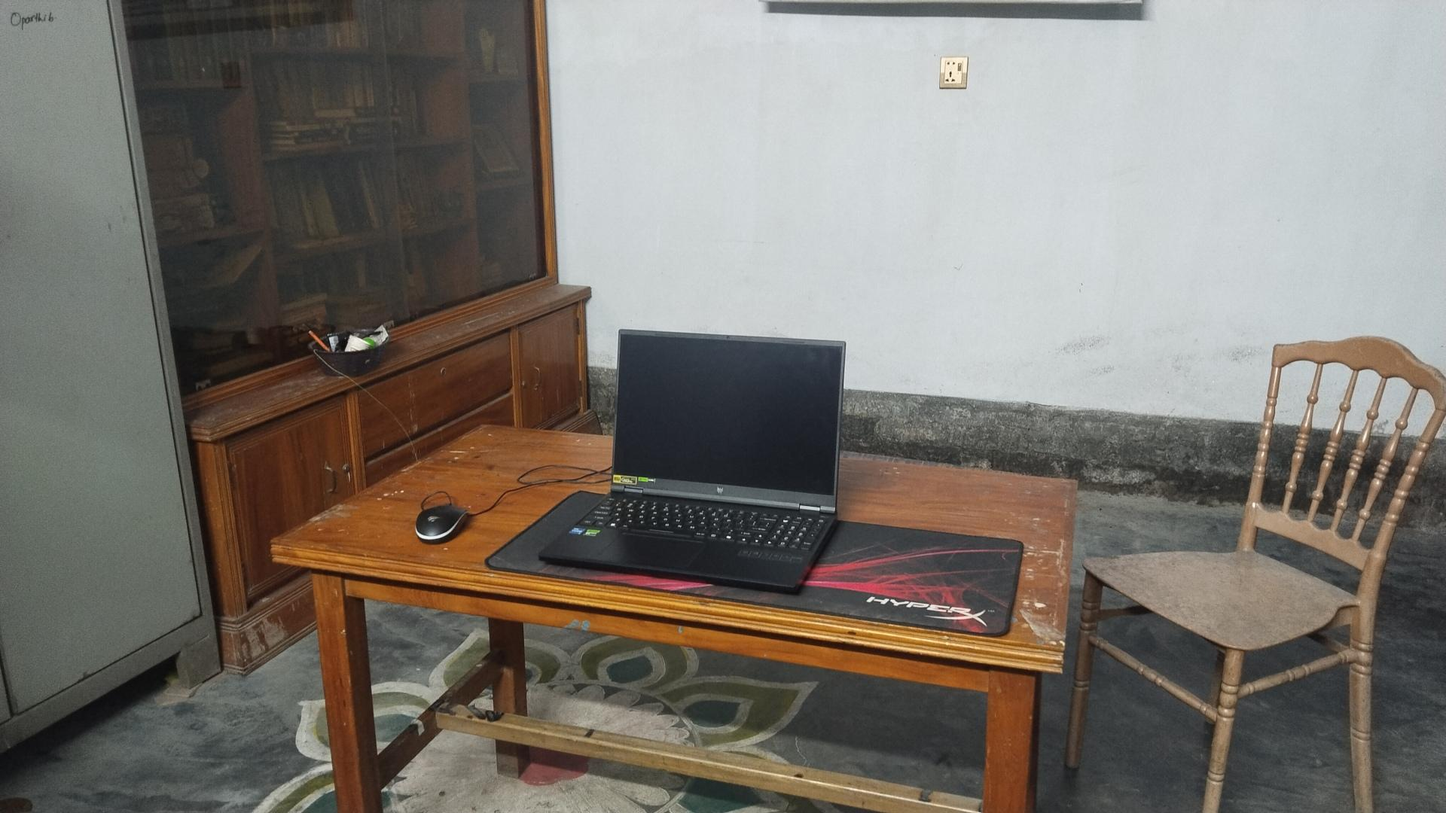Chair: (1088, 330, 1446, 813)
Laptop: (537, 329, 846, 580)
Mouse: (414, 500, 470, 544)
Table: (273, 422, 1079, 813)
